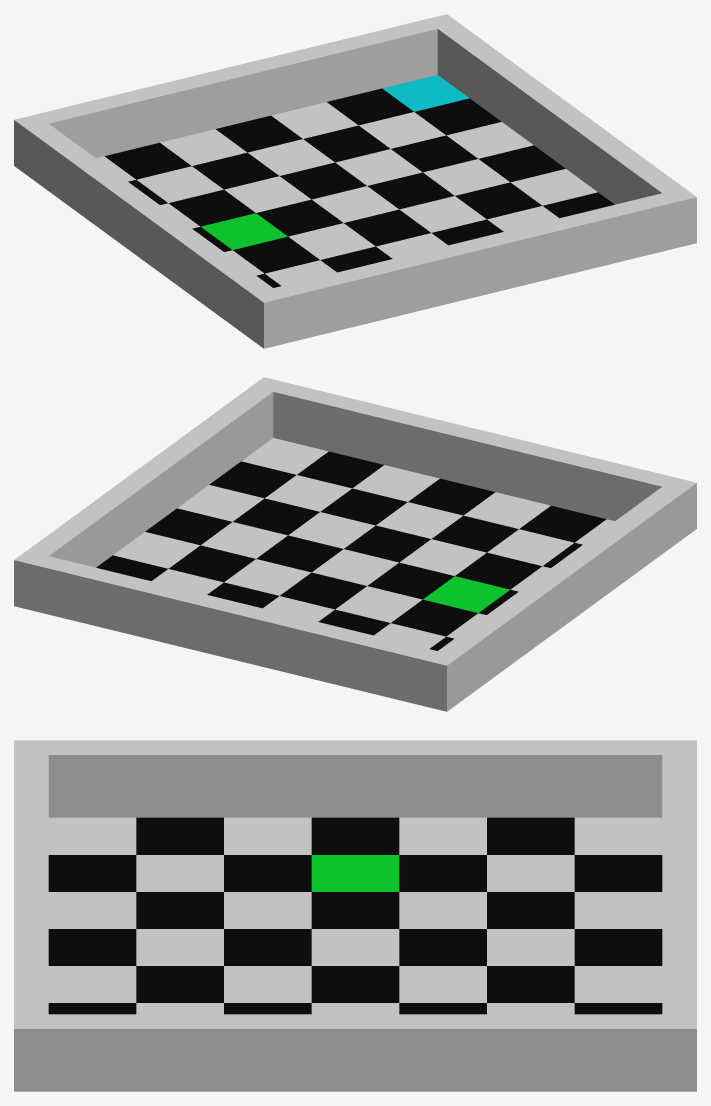
File: CenarioV2.fbx
3 renders of one model, top to bottom at view 1: azimuth 30°, elevation 25°; view 2: azimuth 150°, elevation 25°; view 3: azimuth 270°, elevation 25°, orthographic. The views are drawn at different scales.
Visible parts, largest first — view 1: Cenario; view 2: Cenario; view 3: Cenario.
Boxes of the visible parts, box(x1,y1,x2,y2) form: Cenario: box(14, 14, 696, 348); Cenario: box(14, 377, 696, 711); Cenario: box(14, 740, 696, 1091).
Bounding box in the file's own units: 1771 × 180 × 1771.
